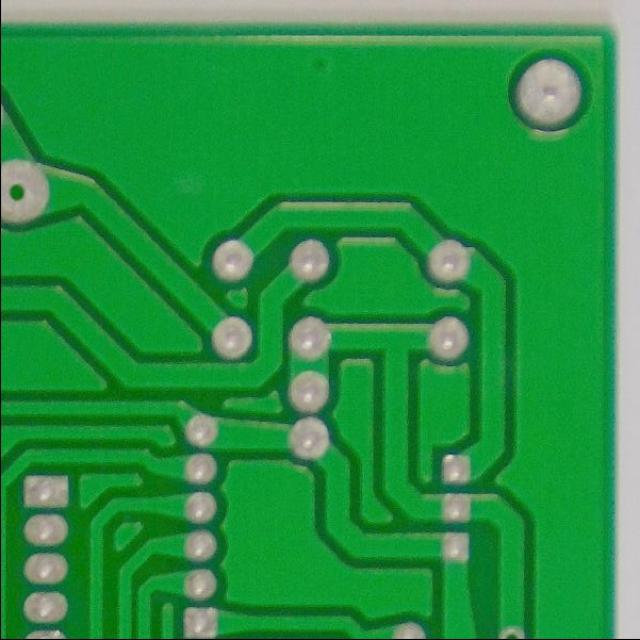missing_hole: (1, 158, 45, 224), (492, 621, 527, 638)
